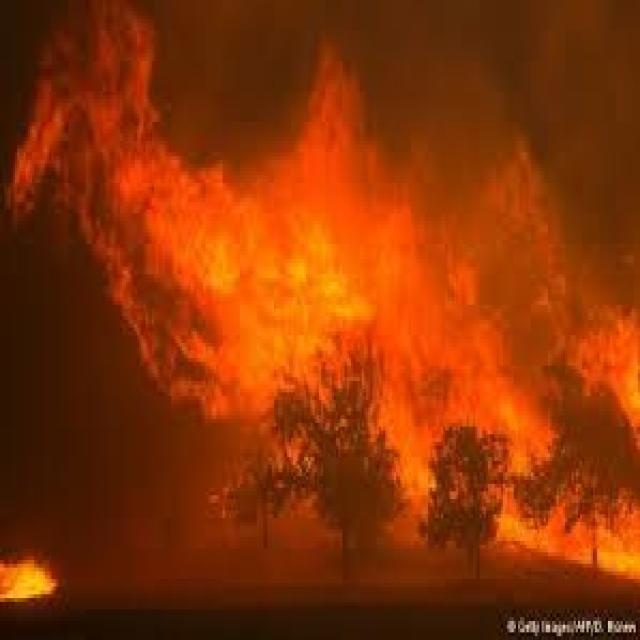Fire: (20, 64, 640, 528), (0, 548, 62, 614)
